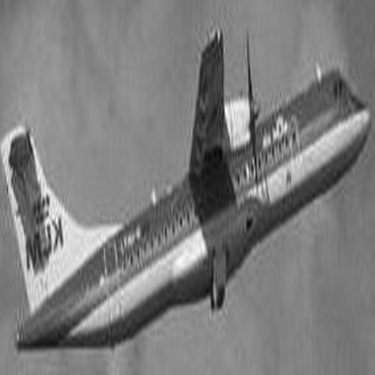airplane: (1, 12, 371, 371)
